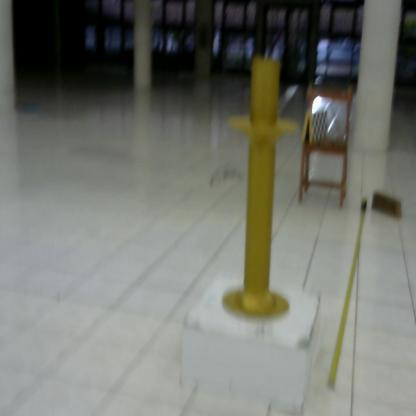pole: (217, 51, 306, 325)
